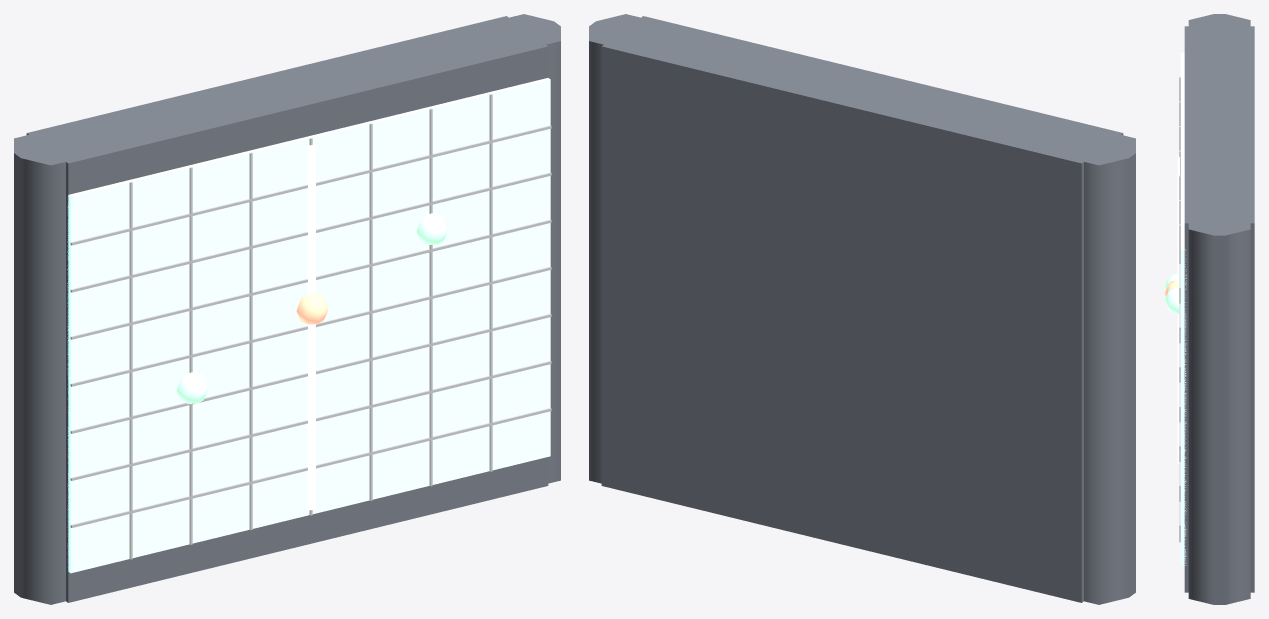
Rendered from prop_scan_screen.glb.
The picture shows the model from 3 angles, left to right: view 1: azimuth 30°, elevation 25°; view 2: azimuth 150°, elevation 25°; view 3: azimuth 270°, elevation 25°; orthographic projection. The views are drawn at different scales.
Parts seen in each view (by area): view 1: prop_scan_screen, sweep_bar, signal_blip_3, signal_blip_1, signal_blip_2; view 2: prop_scan_screen; view 3: prop_scan_screen, sweep_bar, signal_blip_3.
Part boxes in pixels (x1=…): prop_scan_screen: x1=14, y1=14, x2=560, y2=604; sweep_bar: x1=307, y1=144, x2=315, y2=510; signal_blip_3: x1=416, y1=213, x2=448, y2=244; signal_blip_1: x1=176, y1=372, x2=208, y2=403; signal_blip_2: x1=296, y1=293, x2=328, y2=324; prop_scan_screen: x1=589, y1=14, x2=1135, y2=604; prop_scan_screen: x1=1179, y1=14, x2=1254, y2=604; sweep_bar: x1=1177, y1=155, x2=1179, y2=463; signal_blip_3: x1=1164, y1=287, x2=1179, y2=314.
Bounding box in the file's own units: 0.9 × 0.7 × 0.155.
